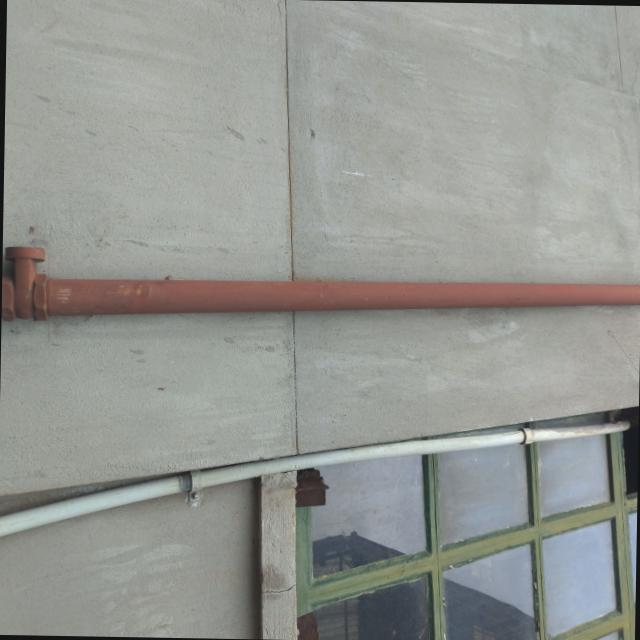gas: (0, 278, 640, 324)
